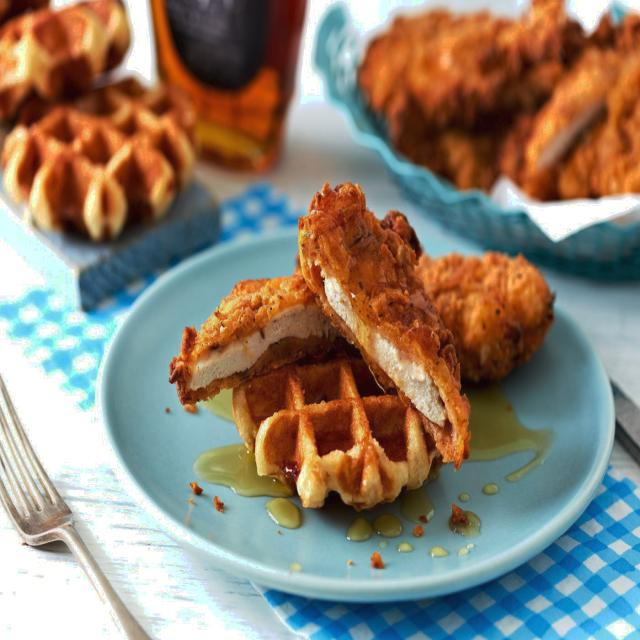chicken waffle: (169, 178, 556, 512)
